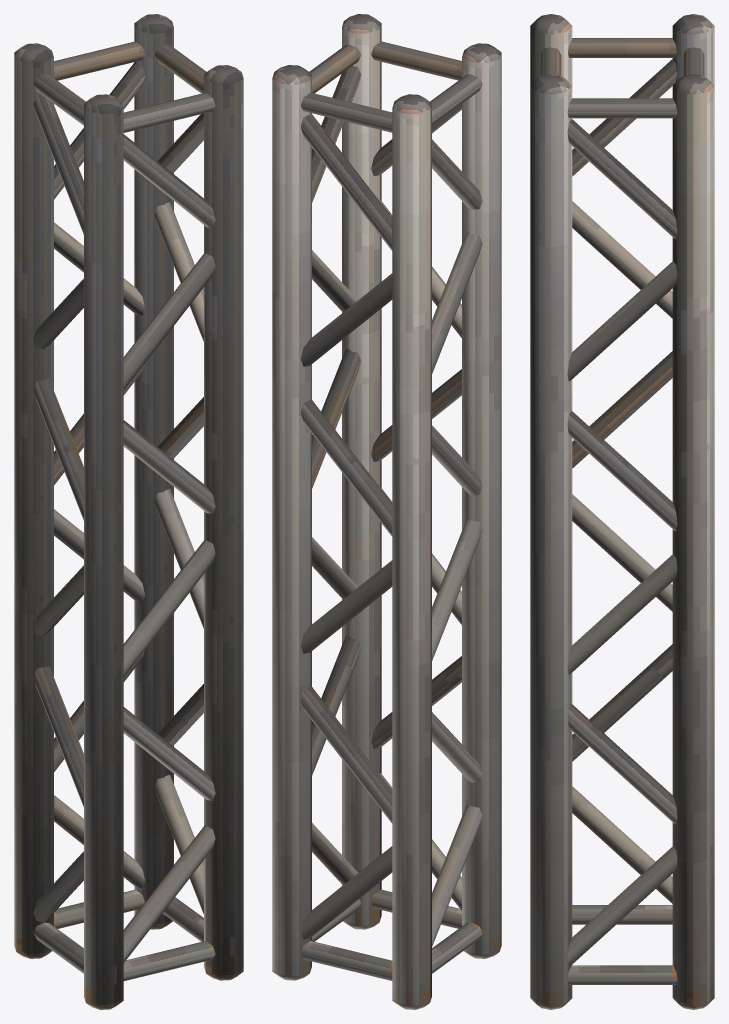
The model's file is item_truss.glb.
3 views of the same model, side by side, from view 1: azimuth 30°, elevation 25°; view 2: azimuth 150°, elevation 25°; view 3: azimuth 270°, elevation 25° (orthographic). The views are drawn at different scales.
Visible parts, largest first — view 1: Truss; view 2: Truss; view 3: Truss.
Boxes of the visible parts, box(x1,y1,x2,y2) form: Truss: box(14, 14, 243, 1009); Truss: box(272, 14, 501, 1009); Truss: box(530, 14, 714, 1009).
Size of the model in its own units: 0.6456 by 3.58 by 0.6473.
1 material, 1 textured.
